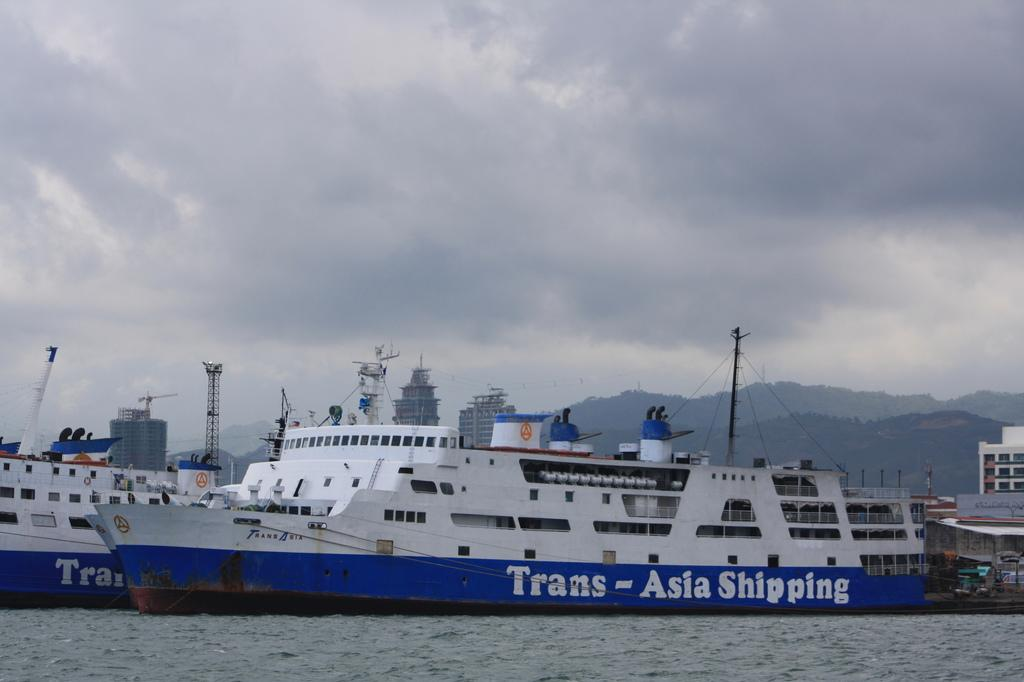PassengerShip: (89, 376, 939, 628), (0, 345, 228, 611)
